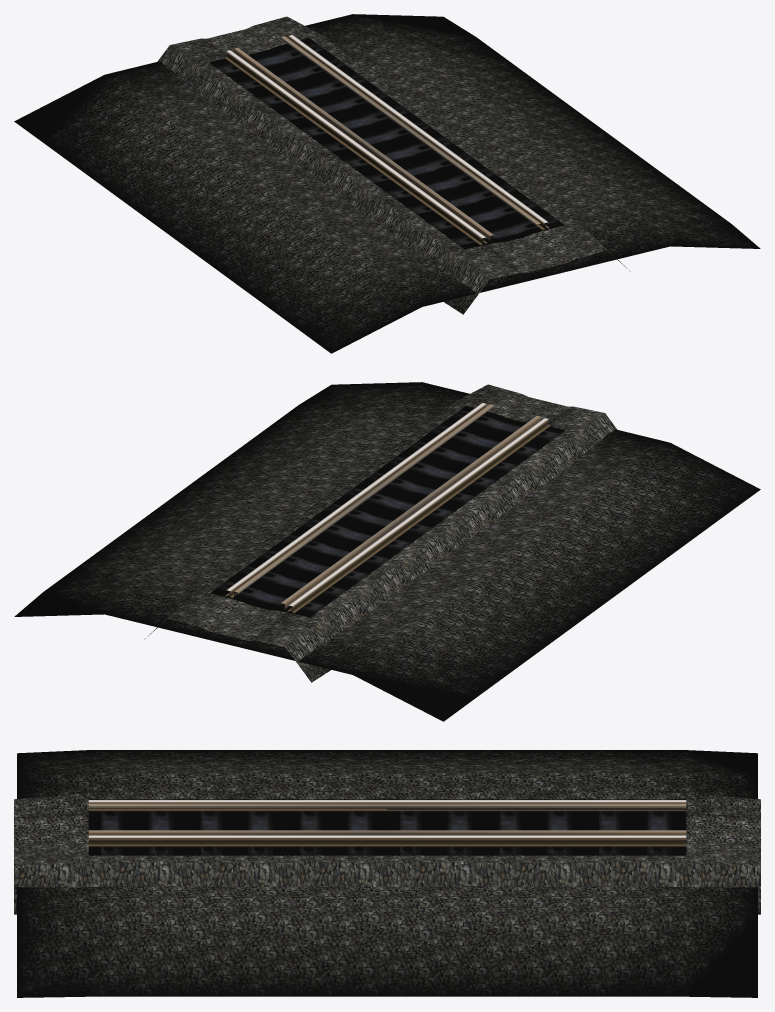
File: TOB_1RAIL_25G.glb
3 renders of one model, top to bottom at view 1: azimuth 30°, elevation 25°; view 2: azimuth 150°, elevation 25°; view 3: azimuth 270°, elevation 25°, orthographic. The views are drawn at different scales.
Parts seen in each view (by area): view 1: obj3, R000_RG_R2, R000_RG_L2; view 2: obj3, R000_RG_R2, R000_RG_L2; view 3: obj3, R000_RG_R2, R000_RG_L2.
Part boxes in pixels (box(x1,y1,x2,y2)): obj3: box(14, 14, 760, 353); R000_RG_R2: box(234, 47, 493, 240); R000_RG_L2: box(281, 36, 540, 225); obj3: box(14, 382, 760, 721); R000_RG_R2: box(281, 415, 540, 608); R000_RG_L2: box(234, 404, 493, 596); obj3: box(14, 750, 760, 997); R000_RG_R2: box(88, 803, 686, 809); R000_RG_L2: box(88, 830, 686, 835).
Size of the model in its own units: 24.42 by 2.65 by 31.25.
Materials: 6 (6 with a texture image).
